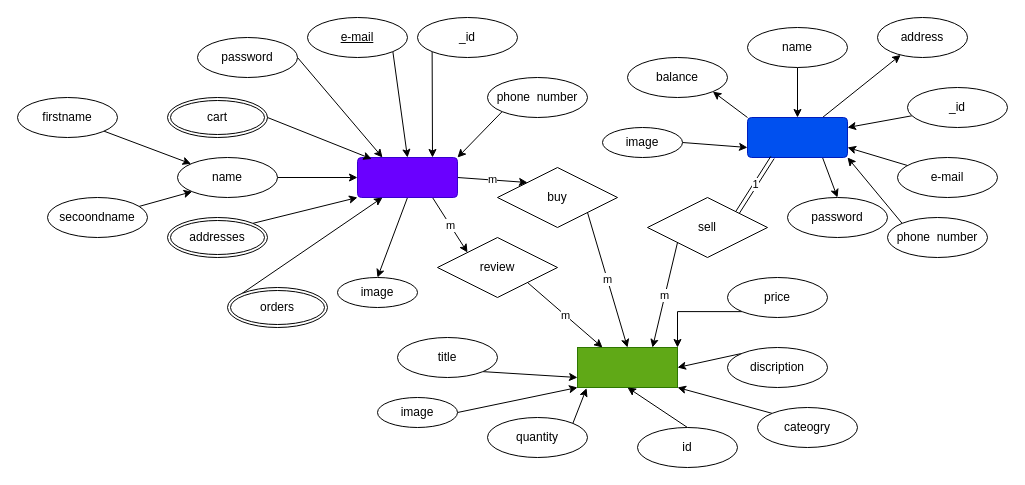
Image size: 1025x485. Some labels were removed from this diagram. The shapes that lost their labels are listed below. From the top down, each one's centre as x and y in pixels, then its label:
(x=797, y=137): seller
(x=407, y=177): buyer
(x=627, y=367): items
